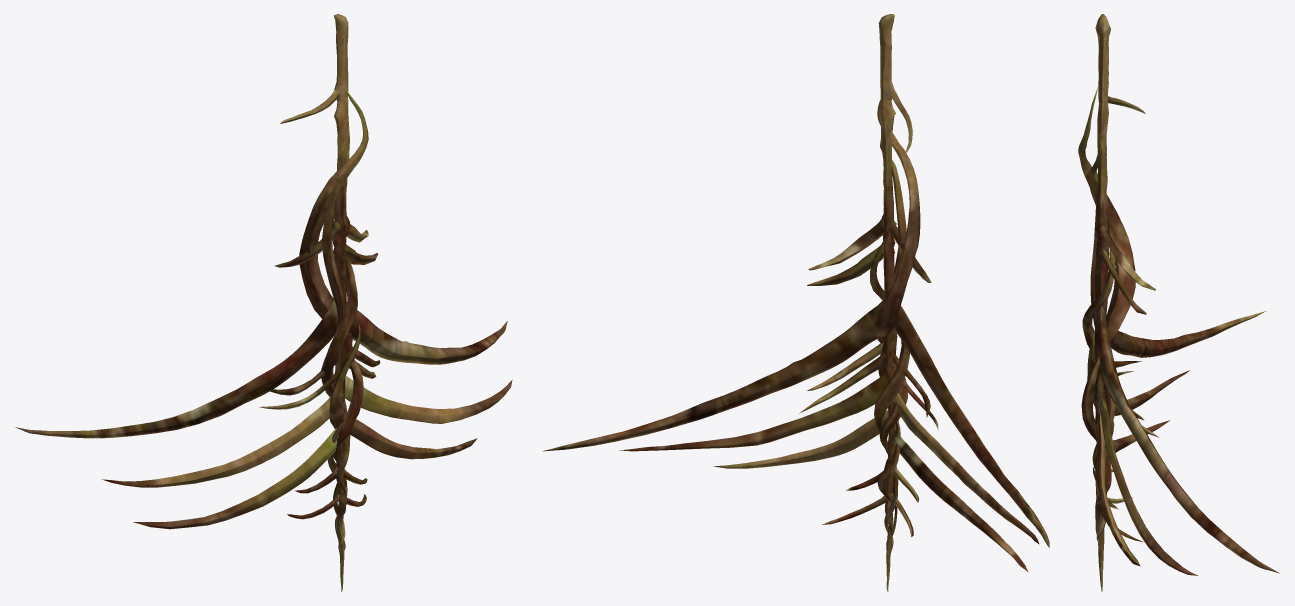
The model's file is weapon-wp_a_0637.glb.
3 views of the same model, side by side, from view 1: azimuth 30°, elevation 25°; view 2: azimuth 150°, elevation 25°; view 3: azimuth 270°, elevation 25° (orthographic).
Visible parts, largest first — view 1: wp_a_0637_mesh; view 2: wp_a_0637_mesh; view 3: wp_a_0637_mesh.
Part boxes in pixels (x1,y1,x2,y2): wp_a_0637_mesh: (15, 14, 512, 591); wp_a_0637_mesh: (543, 14, 1049, 591); wp_a_0637_mesh: (1078, 14, 1279, 591).
Size of the model in its own units: 1.53 by 1.69 by 0.5385.
1 material, 1 textured.
